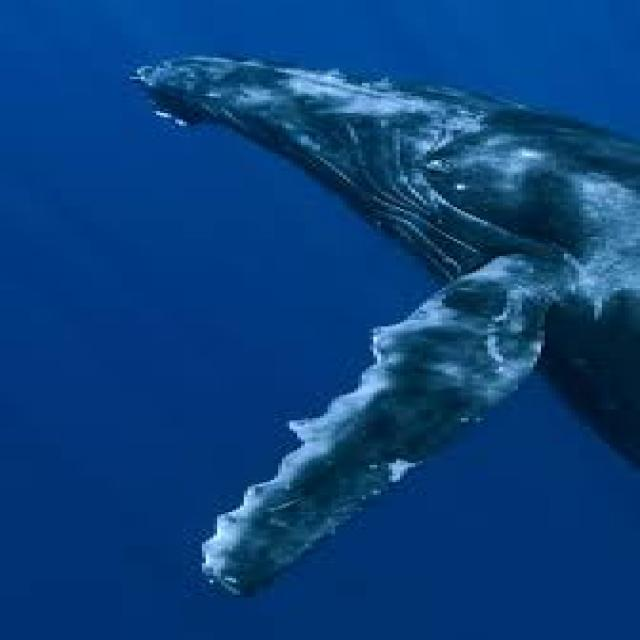blue_whale: (99, 45, 640, 640)
